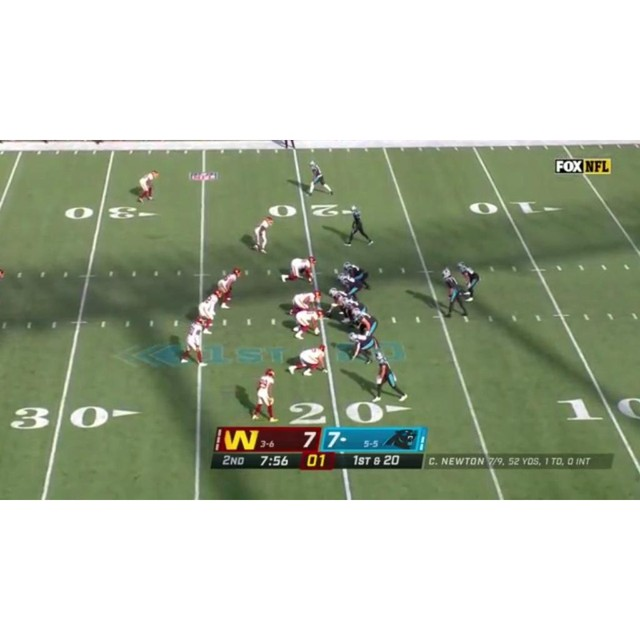american-football-player: (372, 350, 407, 402), (440, 268, 469, 321), (251, 368, 277, 422), (180, 316, 208, 366), (198, 287, 227, 334), (287, 344, 329, 376), (344, 205, 374, 246), (349, 307, 380, 342), (291, 309, 324, 340), (284, 290, 323, 316), (326, 287, 354, 323), (218, 268, 242, 310), (281, 256, 317, 284), (347, 331, 376, 365), (456, 261, 480, 302), (306, 160, 333, 196), (133, 170, 159, 202), (251, 215, 273, 252), (343, 260, 370, 289), (336, 271, 362, 297)
